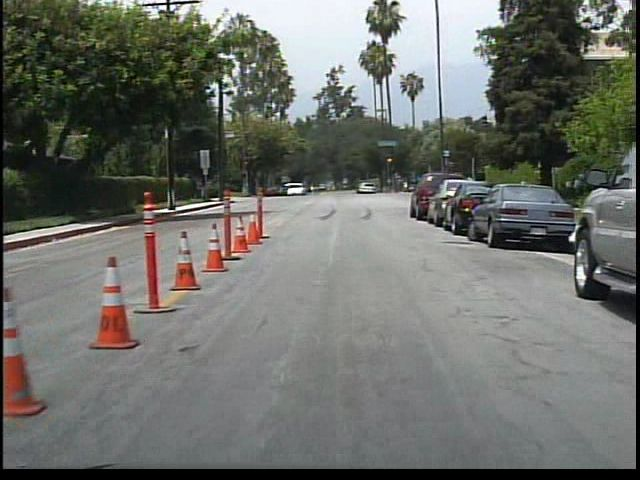car: (464, 182, 588, 258), (443, 182, 479, 230), (430, 181, 455, 228), (411, 176, 431, 218)
strada: (15, 239, 639, 456)
